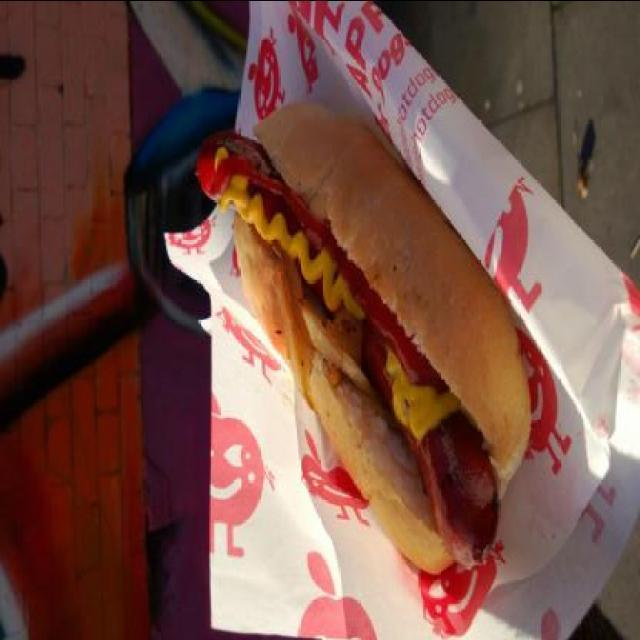Hot dog: (192, 87, 540, 581)
